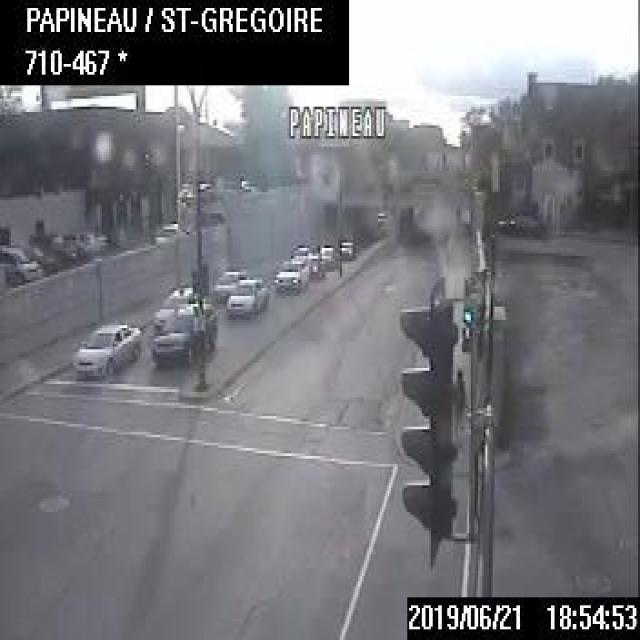vehicle: (69, 317, 142, 379), (149, 296, 216, 362), (152, 280, 192, 332), (224, 275, 266, 317), (27, 231, 77, 266), (0, 242, 42, 282), (493, 208, 547, 238), (272, 253, 311, 292), (212, 266, 246, 300), (24, 243, 56, 272), (317, 244, 337, 268), (339, 236, 353, 260)
